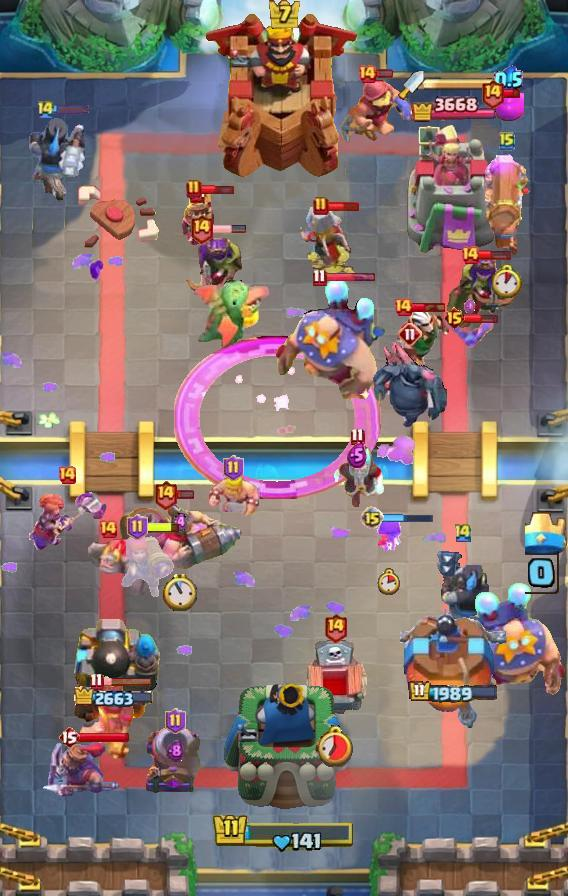archer: (204, 471, 262, 527)
bar: (406, 122, 500, 256)
barbarian: (446, 320, 494, 348)
barbarian-hut: (441, 252, 523, 328), (178, 234, 250, 300)
battle-healer: (484, 154, 530, 258)
bomber-evolution: (180, 193, 232, 249)
clock: (212, 812, 356, 854)
electro-spirit: (493, 66, 522, 95), (347, 442, 367, 468), (166, 739, 185, 763), (173, 511, 187, 532), (464, 299, 476, 314)
electro-wizard: (190, 280, 270, 352)
elixir: (315, 724, 356, 767), (163, 573, 197, 611), (492, 264, 522, 298), (377, 569, 400, 596)
elixir-golem-big: (41, 739, 123, 799)
elixir-golem-mid: (300, 639, 370, 725)
emote: (382, 512, 434, 524), (78, 731, 130, 743), (324, 273, 376, 284), (101, 677, 153, 688), (145, 522, 181, 535), (201, 184, 236, 197), (411, 301, 447, 313), (54, 105, 90, 116), (477, 249, 510, 261), (463, 313, 499, 324), (326, 201, 360, 212), (211, 224, 247, 234), (374, 68, 393, 79), (502, 89, 521, 100), (177, 488, 196, 499)
fireball: (338, 74, 416, 148)
freeze: (75, 678, 135, 764)
goblin: (372, 515, 405, 555)
goblin-cage: (143, 726, 207, 796)
golemite: (373, 342, 447, 430)
inferno-dragon: (434, 547, 492, 647), (28, 115, 88, 205)
king-tower: (205, 11, 363, 181), (219, 678, 349, 826)
king-tower-bar: (424, 77, 496, 91)
knight-evolution: (175, 336, 382, 500)
little-prince: (275, 277, 387, 401), (456, 580, 568, 700)
mega-minion: (121, 528, 177, 600)
miner: (492, 91, 524, 121)
mortar: (326, 439, 388, 511)
poison: (292, 205, 374, 279)
queen-tower: (400, 603, 506, 731)
selected: (412, 94, 497, 126), (409, 679, 500, 704), (73, 686, 154, 710)
skeleton-king: (383, 307, 449, 377)
tesla-evolution: (27, 487, 108, 553)
text: (479, 79, 504, 110), (190, 212, 215, 243), (154, 478, 179, 509), (323, 613, 348, 644), (398, 322, 422, 346), (360, 506, 384, 530), (443, 306, 466, 330), (224, 455, 245, 481), (128, 514, 149, 540), (165, 708, 186, 734), (58, 725, 80, 749), (36, 99, 56, 121), (453, 521, 473, 543), (357, 64, 377, 84), (460, 245, 480, 265), (393, 297, 413, 317), (57, 465, 77, 485), (98, 519, 118, 539), (499, 131, 515, 151), (186, 179, 202, 199), (313, 196, 329, 216), (312, 269, 327, 287), (351, 427, 366, 445), (89, 673, 103, 692)
tower-bar: (67, 611, 161, 731)
valkyrie-evolution: (88, 533, 158, 599)
wizard: (117, 498, 243, 572)
